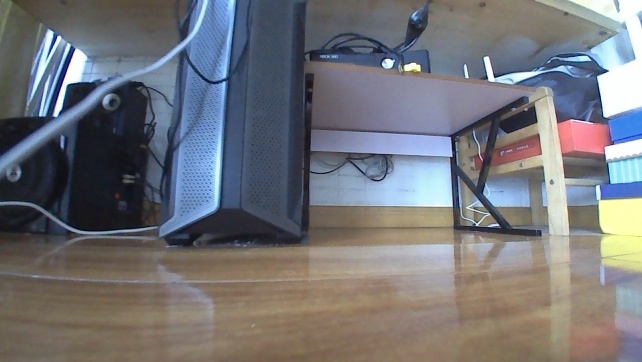wire: (0, 0, 211, 178), (119, 80, 177, 224), (302, 0, 432, 61), (170, 0, 255, 85), (0, 197, 158, 237), (458, 129, 500, 230), (309, 155, 396, 182)
